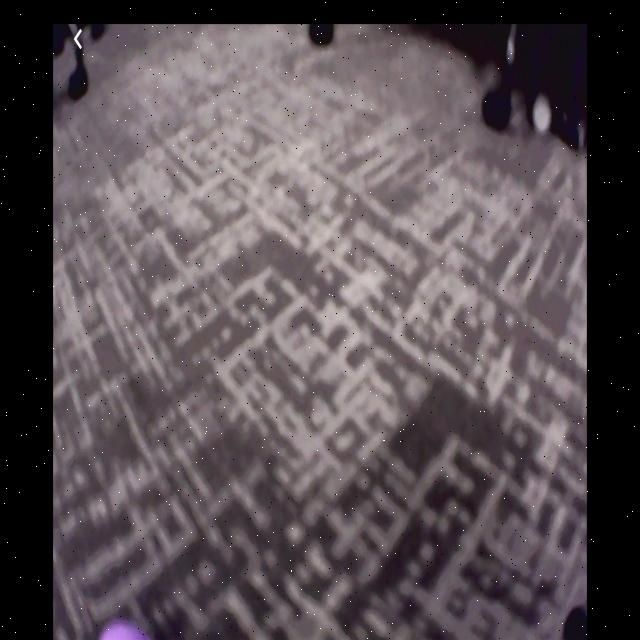ball: (98, 616, 156, 640)
